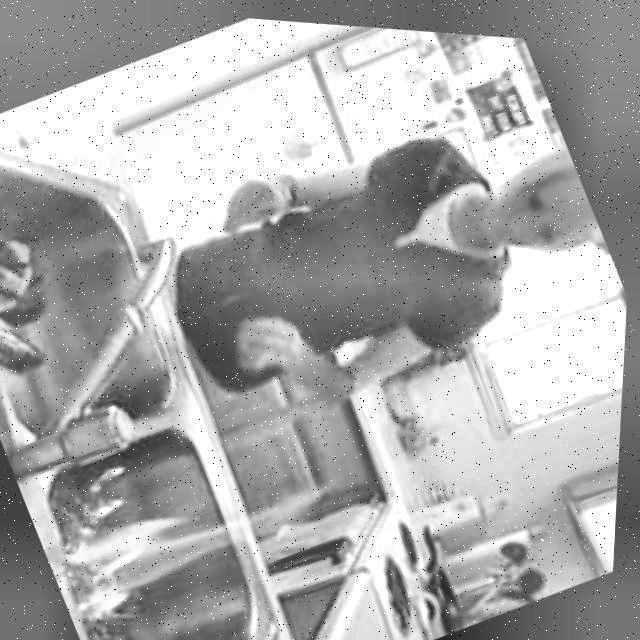Fire: (51, 409, 309, 617)
